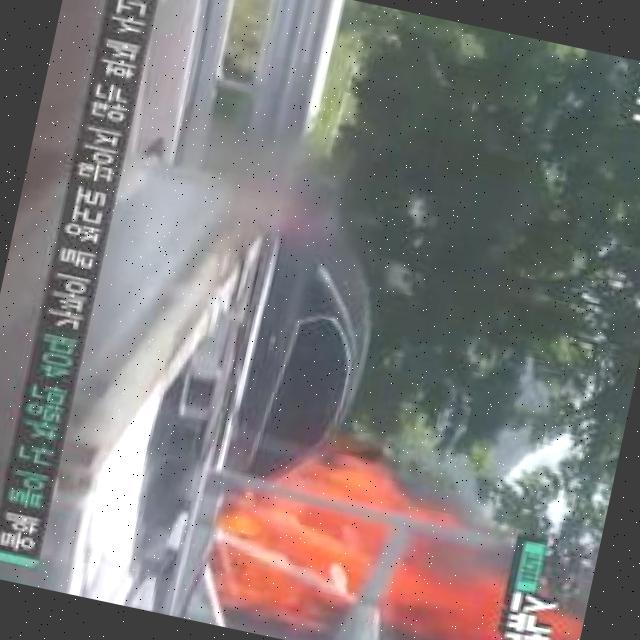fire: (186, 433, 531, 640), (526, 598, 586, 640)
